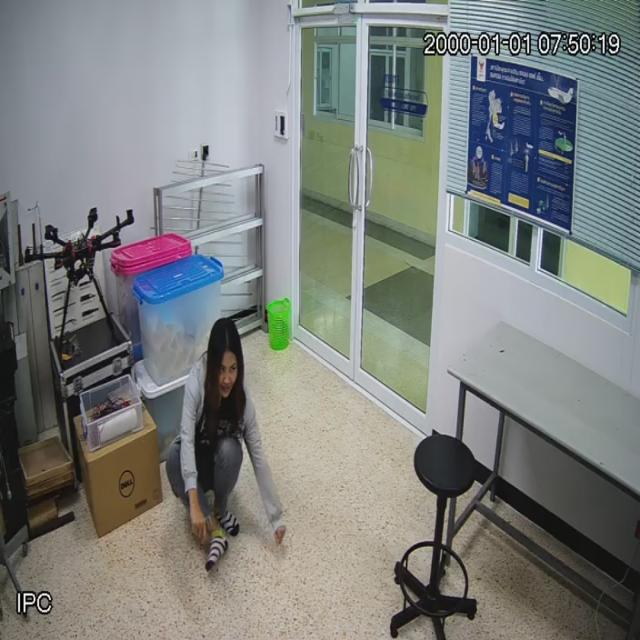normal: (165, 317, 281, 576)
